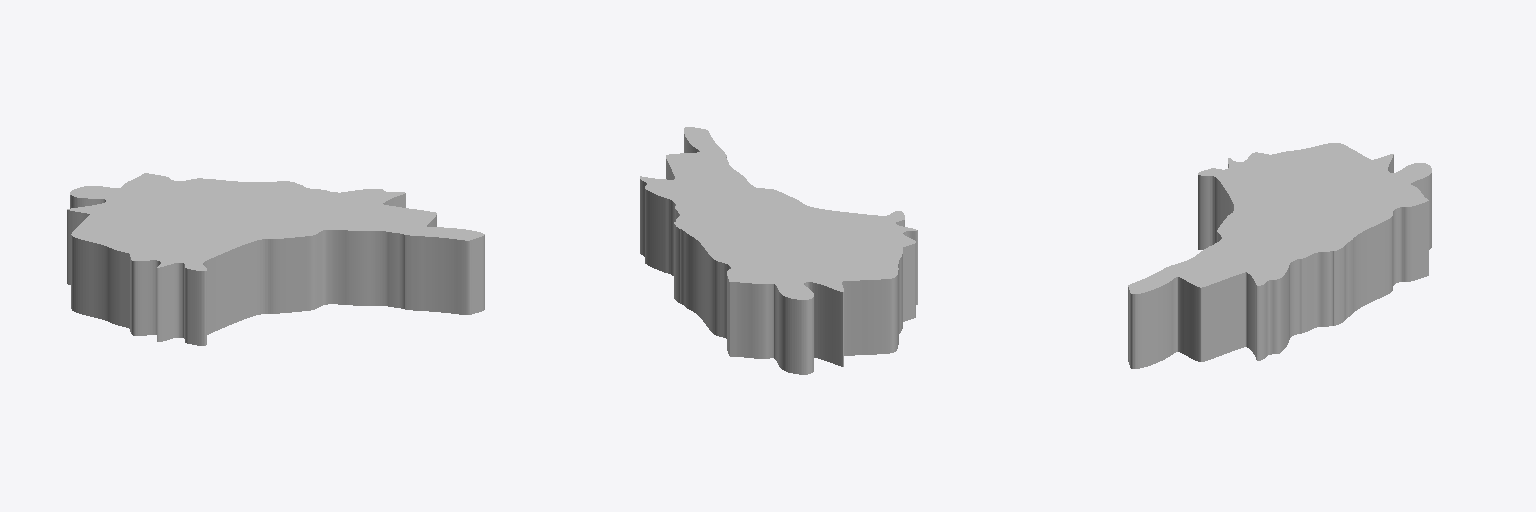
File: Asia_11.obj
3 views of the same model, side by side, from view 1: azimuth 30°, elevation 25°; view 2: azimuth 150°, elevation 25°; view 3: azimuth 270°, elevation 25° (orthographic).
Visible parts, largest first — view 1: Asia_11_path4254; view 2: Asia_11_path4254; view 3: Asia_11_path4254.
Boxes of the visible parts, x1=… form: Asia_11_path4254: x1=67, y1=173, x2=484, y2=345; Asia_11_path4254: x1=640, y1=127, x2=917, y2=374; Asia_11_path4254: x1=1128, y1=143, x2=1431, y2=368.
Size of the model in its own units: 0.4351 by 0.1 by 0.3687.